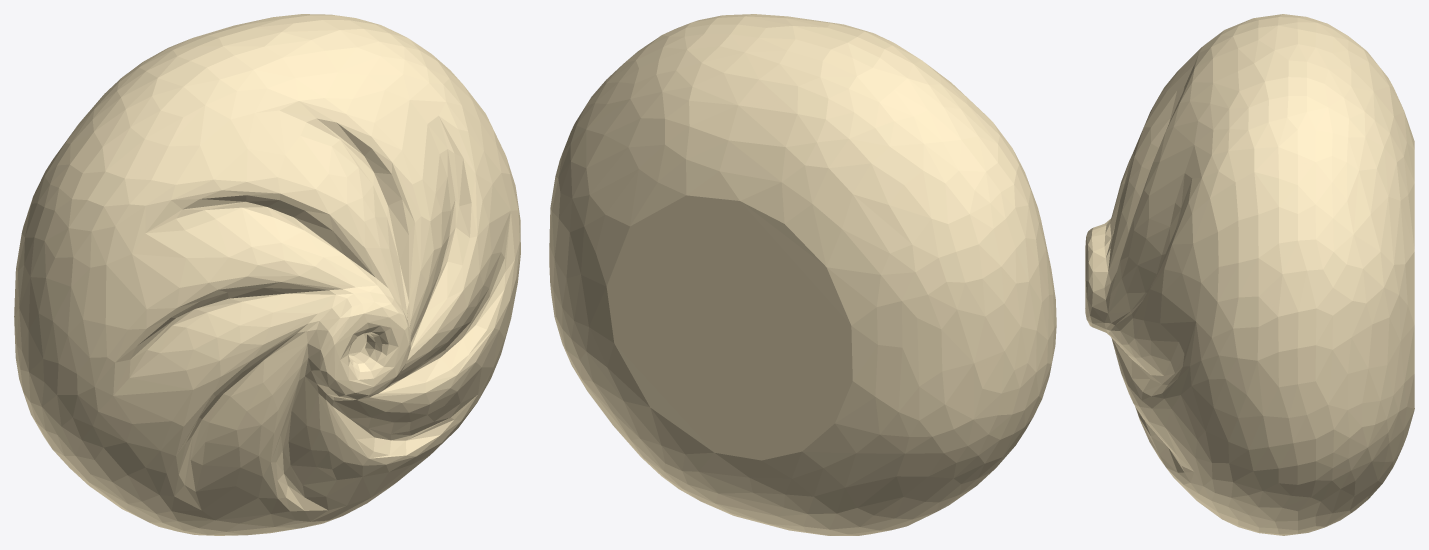
File: topping_dimsum.glb
3 renders of one model, left to right at view 1: azimuth 30°, elevation 25°; view 2: azimuth 150°, elevation 25°; view 3: azimuth 270°, elevation 25°, orthographic. The views are drawn at different scales.
Parts seen in each view (by area): view 1: Sphere.164; view 2: Sphere.164; view 3: Sphere.164.
Boxes of the visible parts, <box> form: Sphere.164: <box>14,14,520,535</box>; Sphere.164: <box>549,14,1056,535</box>; Sphere.164: <box>1085,14,1414,535</box>.
Size of the model in its own units: 8.36 by 8.23 by 5.31.
